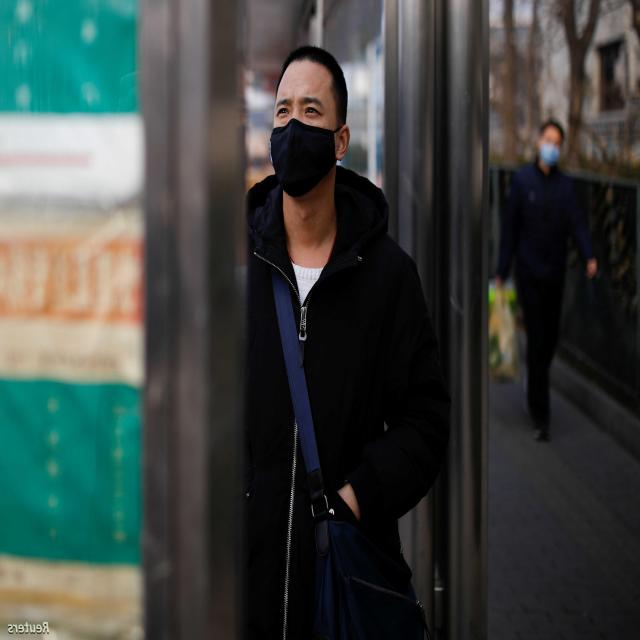face: (260, 43, 349, 203), (536, 118, 566, 172)
